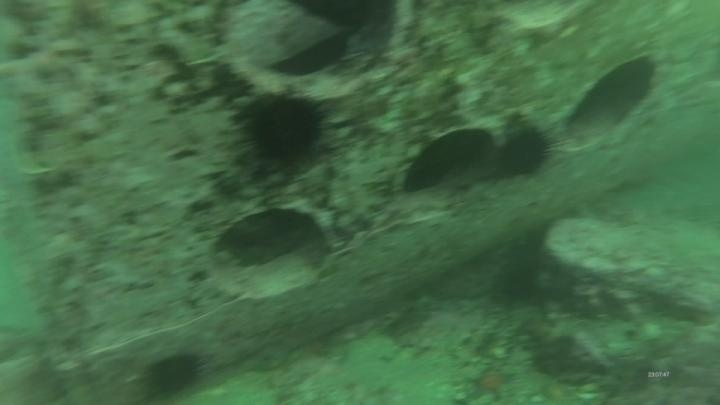echinus: (232, 86, 334, 175), (492, 121, 558, 182), (139, 347, 208, 402)
starfish: (463, 361, 518, 403)
